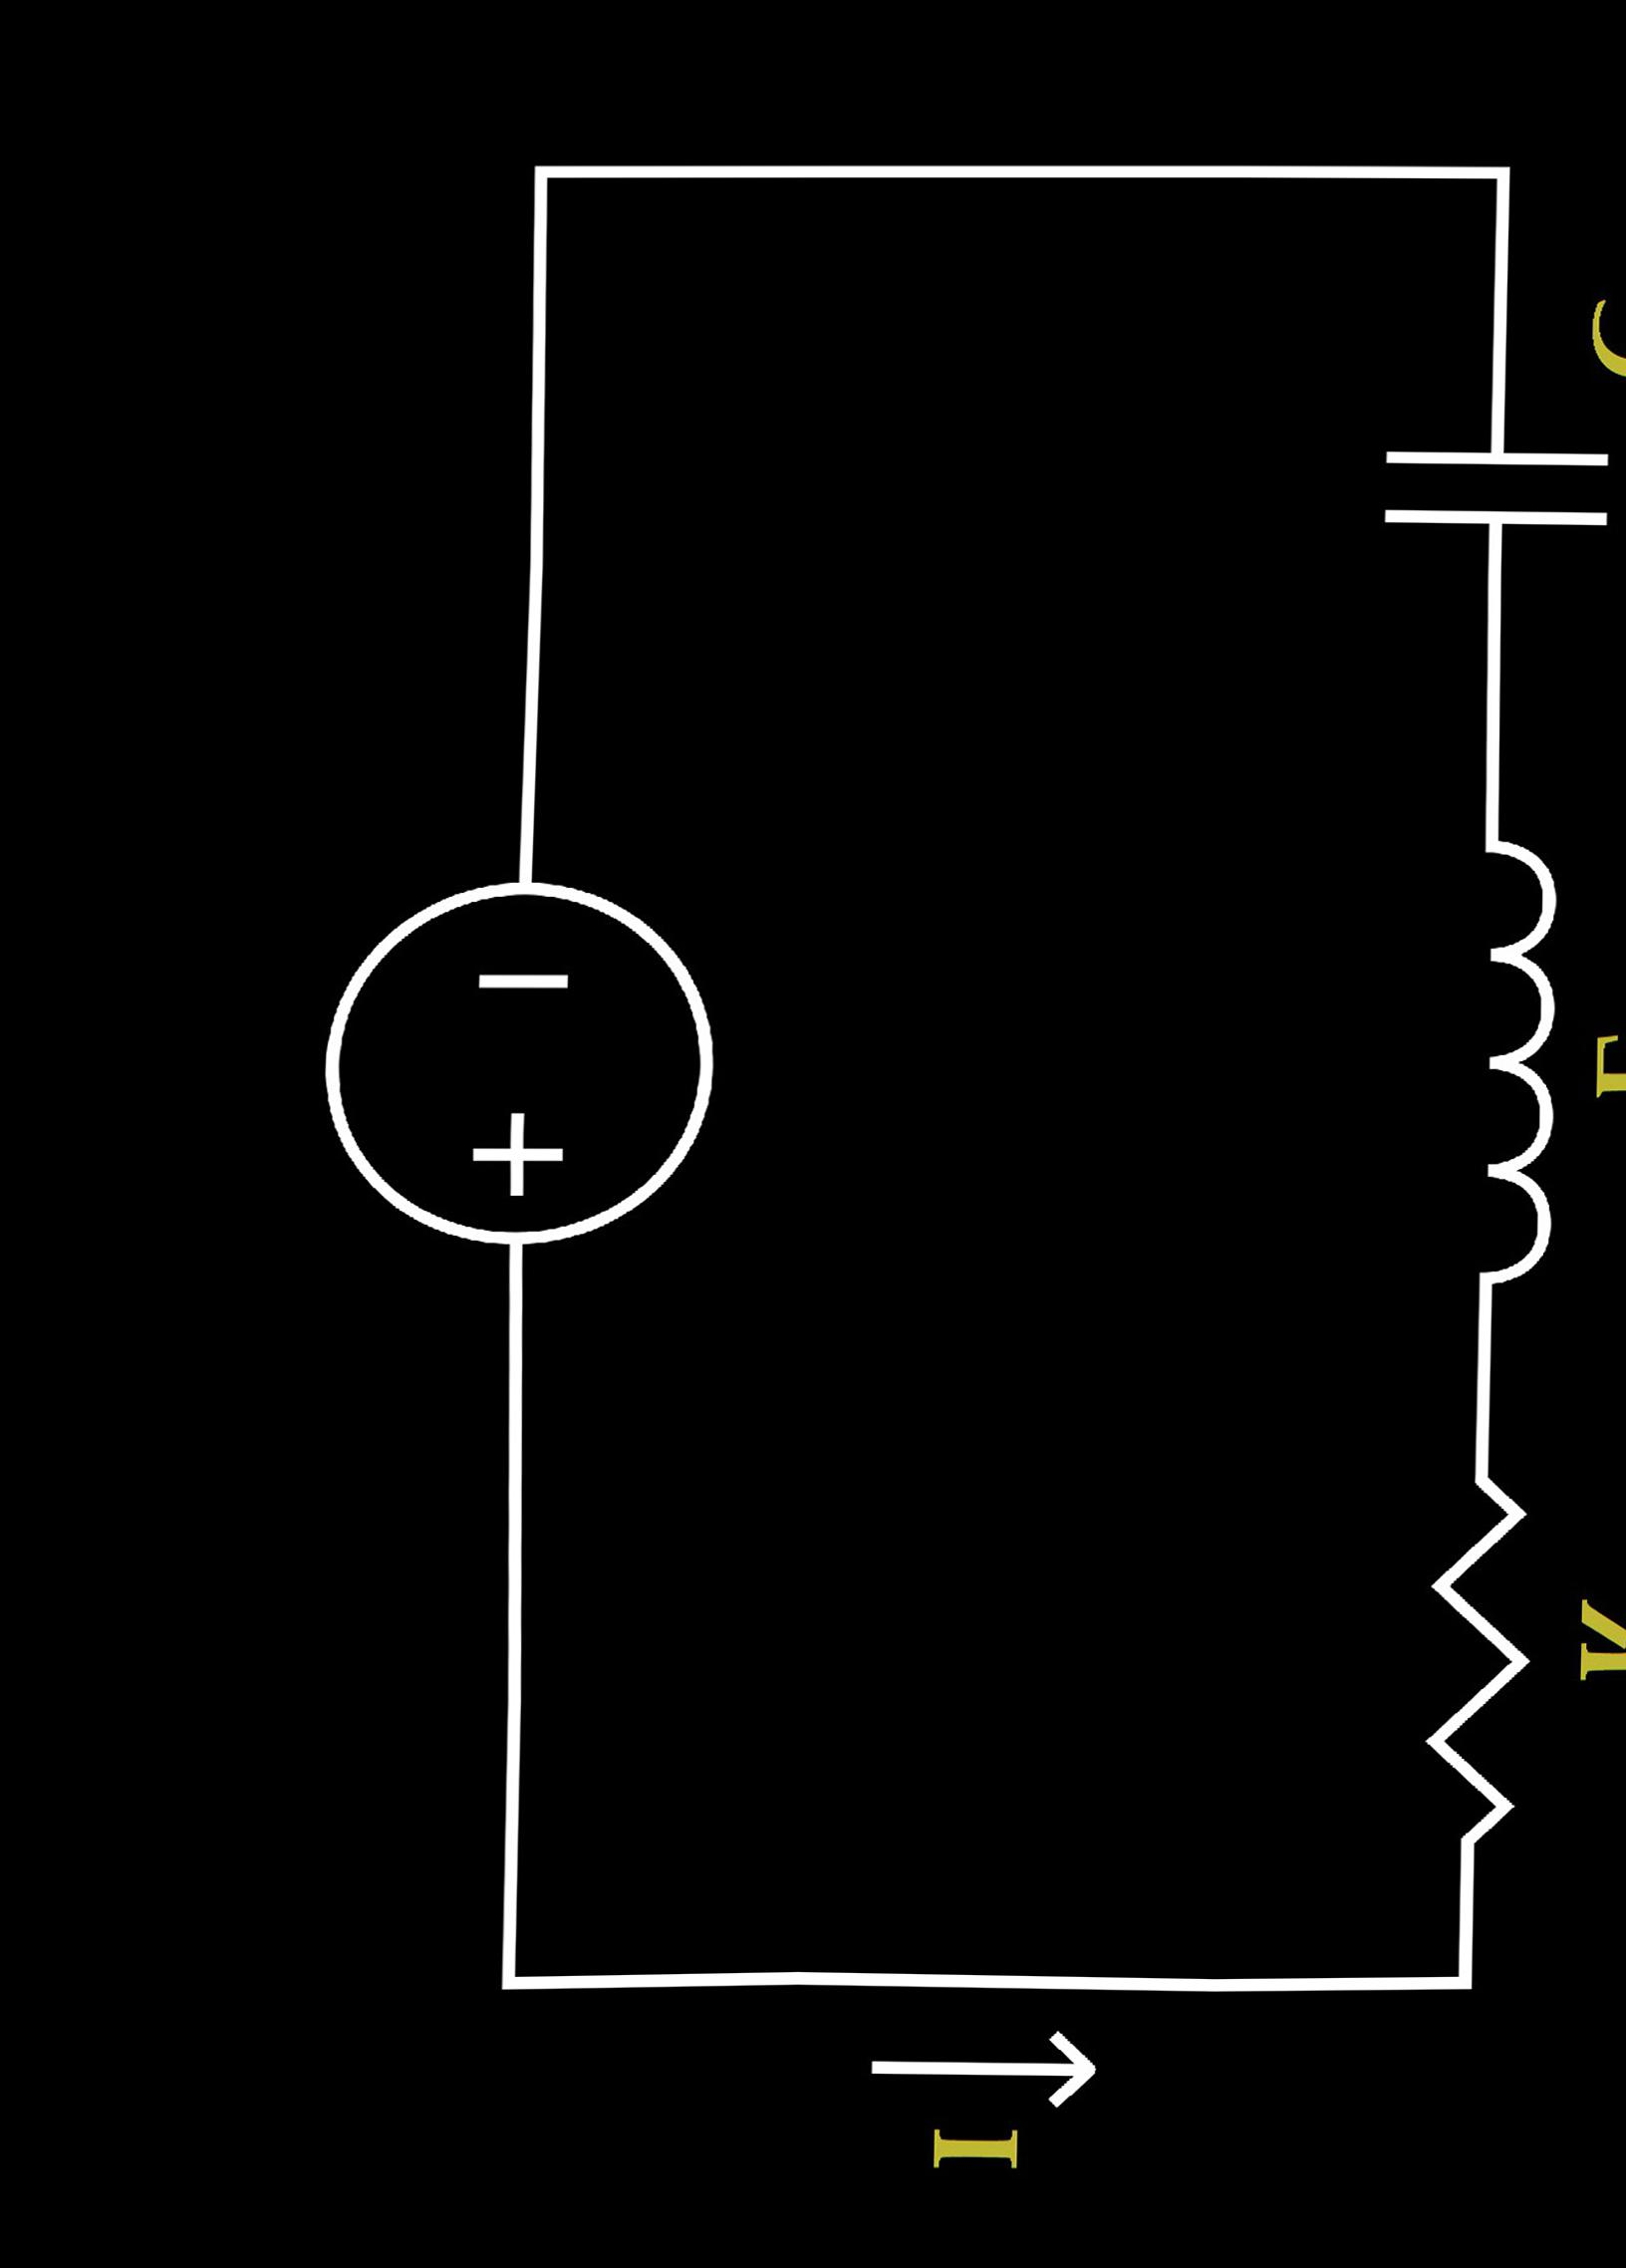Battery: (216, 811, 838, 1339)
